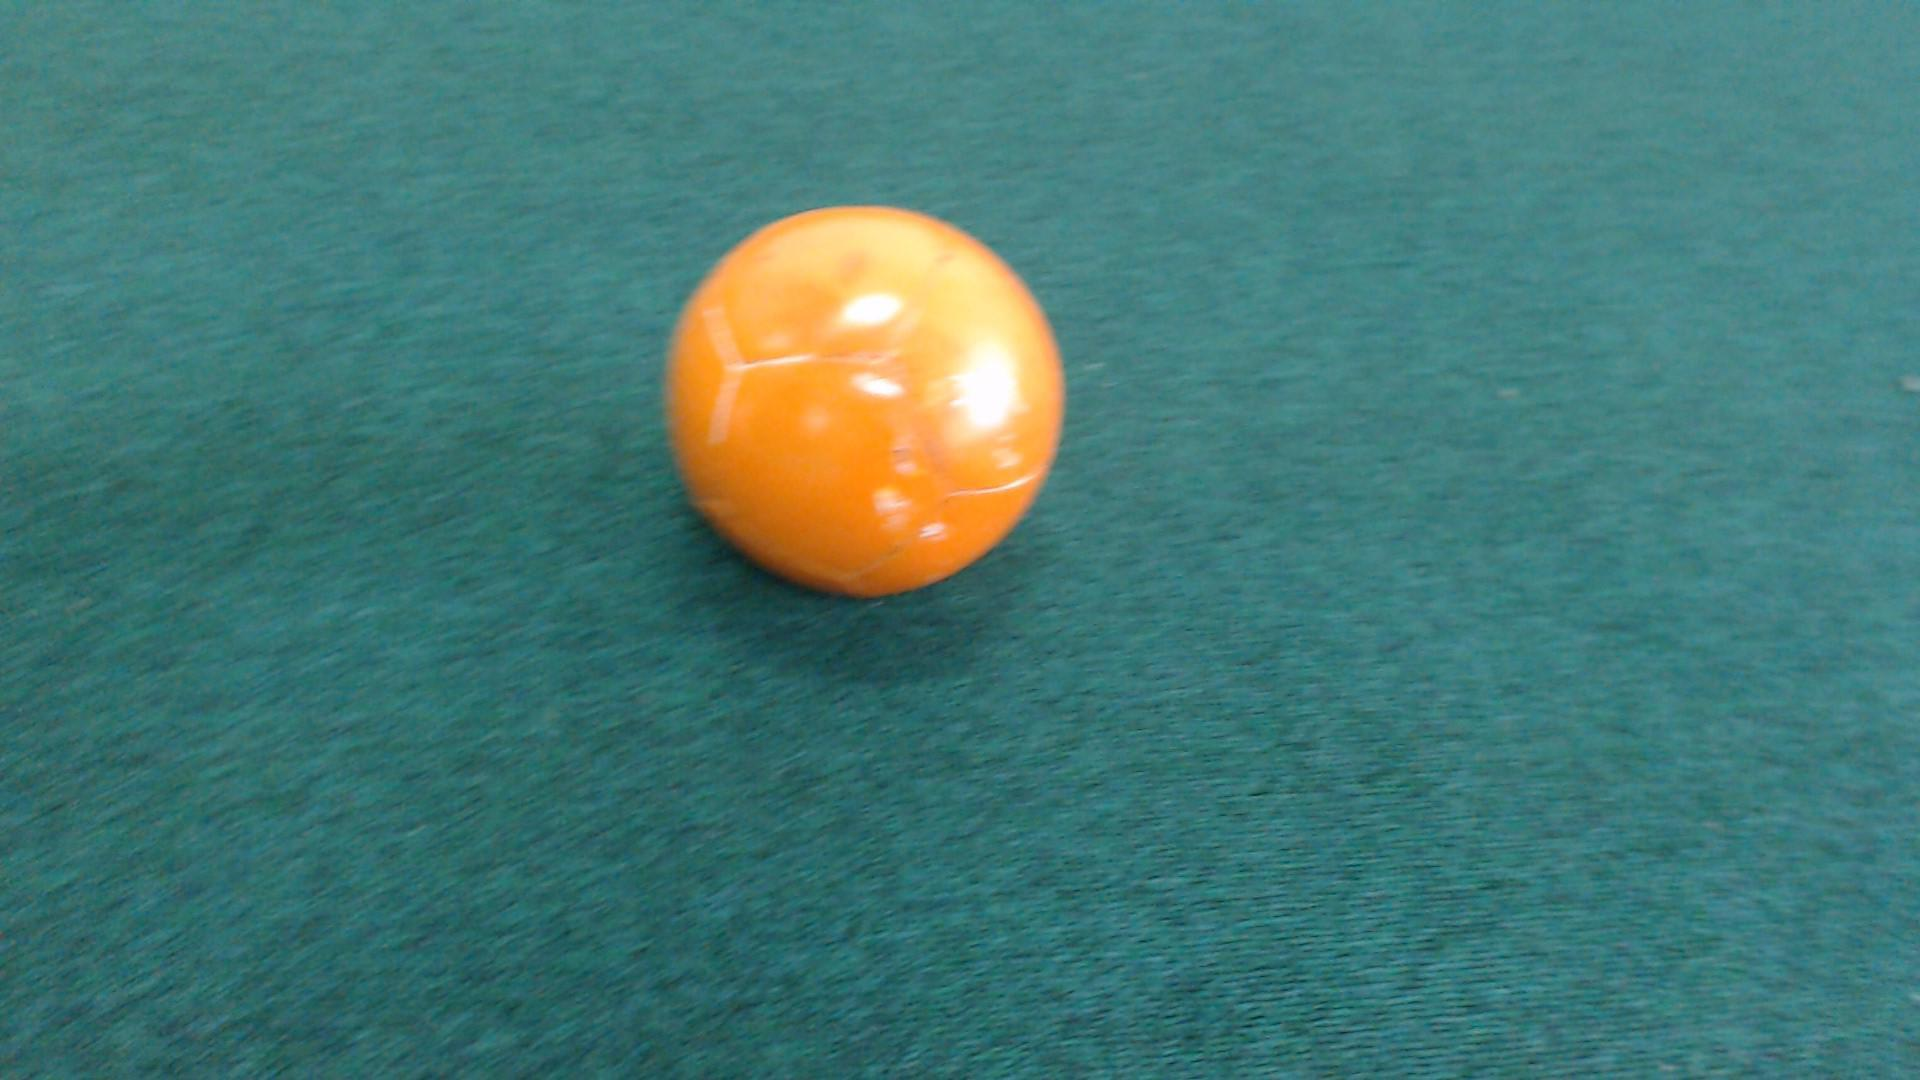bola: (618, 187, 1087, 620)
